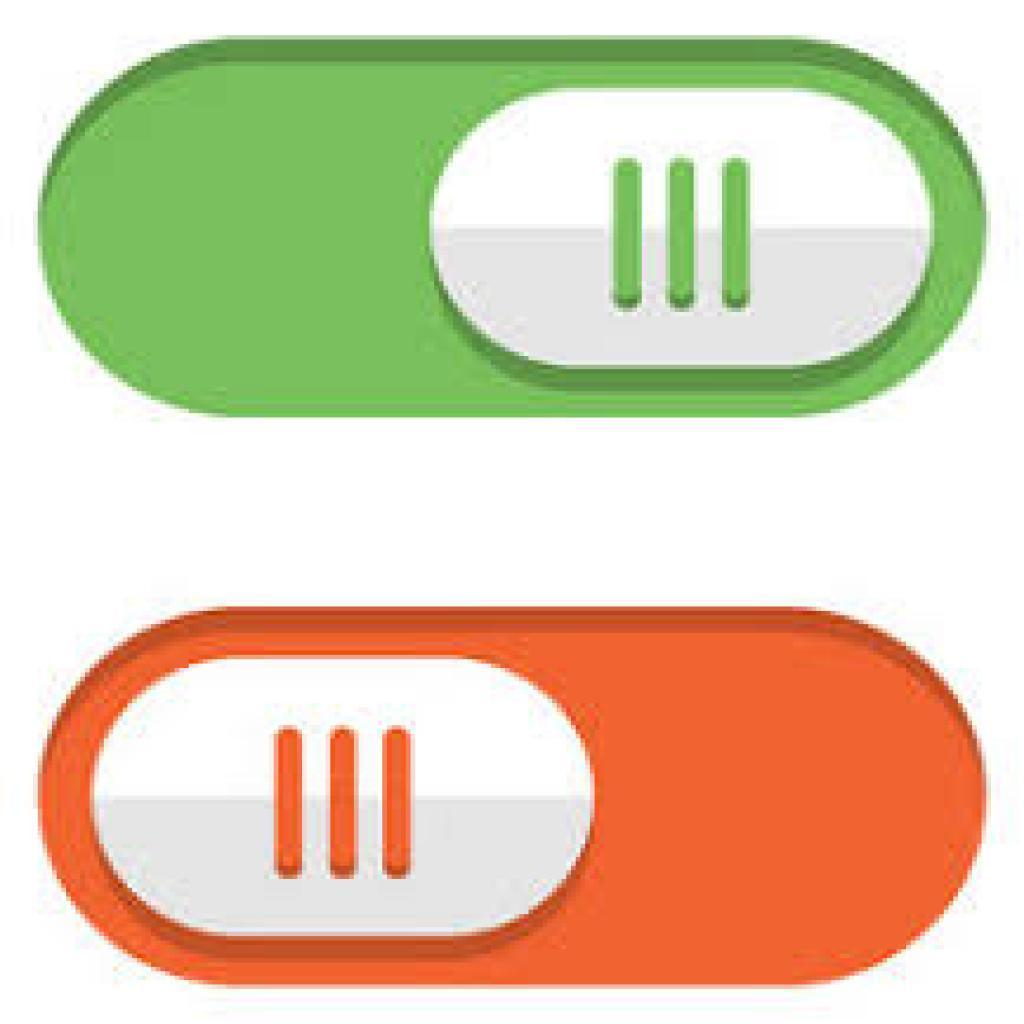switch: (25, 598, 1003, 1009), (28, 26, 998, 433)
